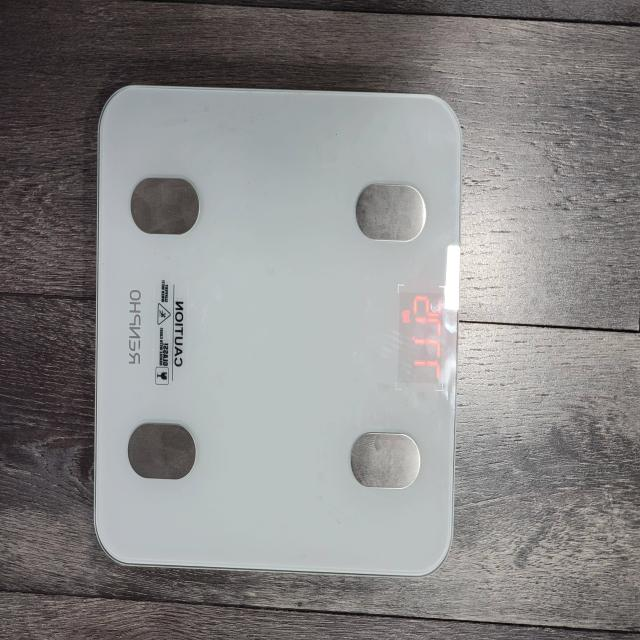ws: (92, 84, 464, 579)
